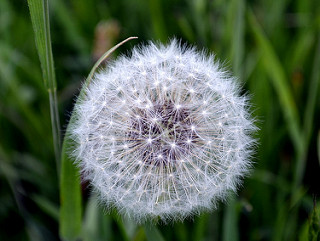dandelion white: (65, 36, 264, 227)
